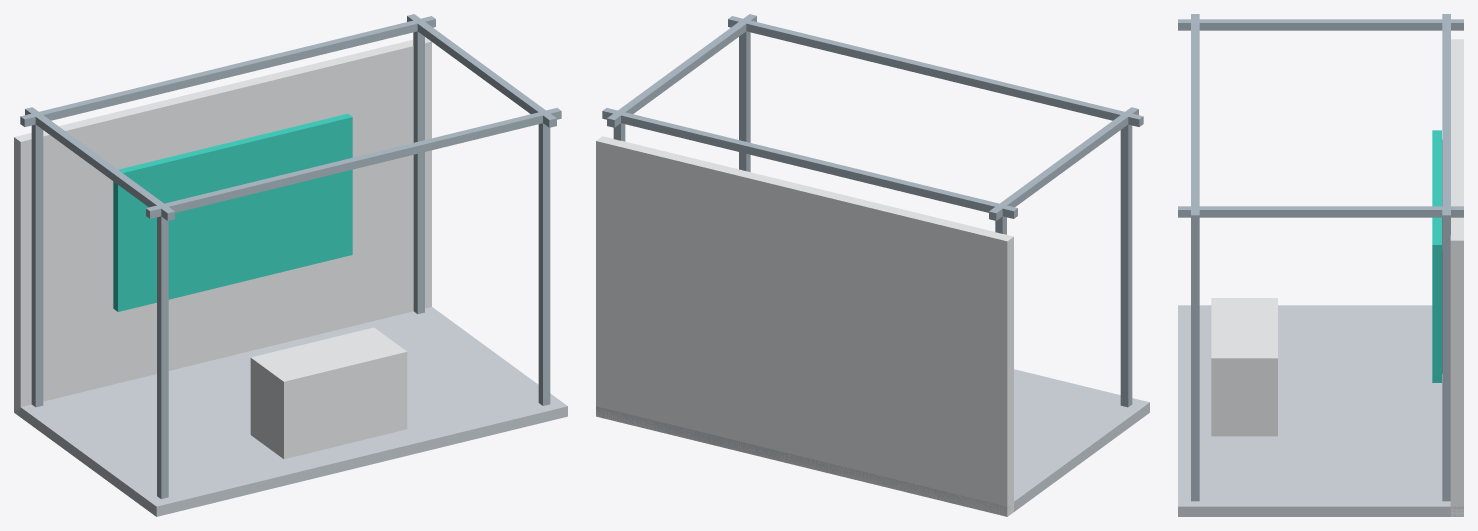
The picture shows the model from 3 angles, left to right: view 1: azimuth 30°, elevation 25°; view 2: azimuth 150°, elevation 25°; view 3: azimuth 270°, elevation 25°; orthographic projection.
Visible parts, largest first — view 1: Exhibition Booth Concept; view 2: Exhibition Booth Concept; view 3: Exhibition Booth Concept.
Part boxes in pixels (x1,y1,x2,y2): Exhibition Booth Concept: (14, 14, 567, 516); Exhibition Booth Concept: (596, 14, 1149, 516); Exhibition Booth Concept: (1178, 14, 1463, 516).
Bounding box in the file's own units: 5 × 3.49 × 3.
